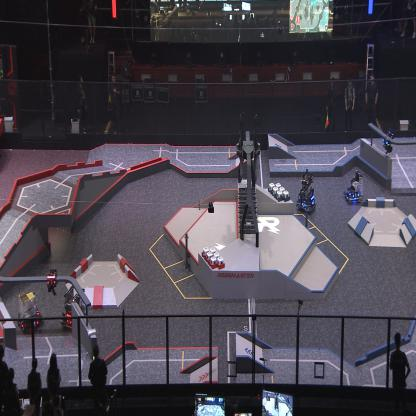car: (59, 284, 87, 333), (15, 290, 44, 335), (296, 174, 317, 213), (344, 169, 364, 204)
